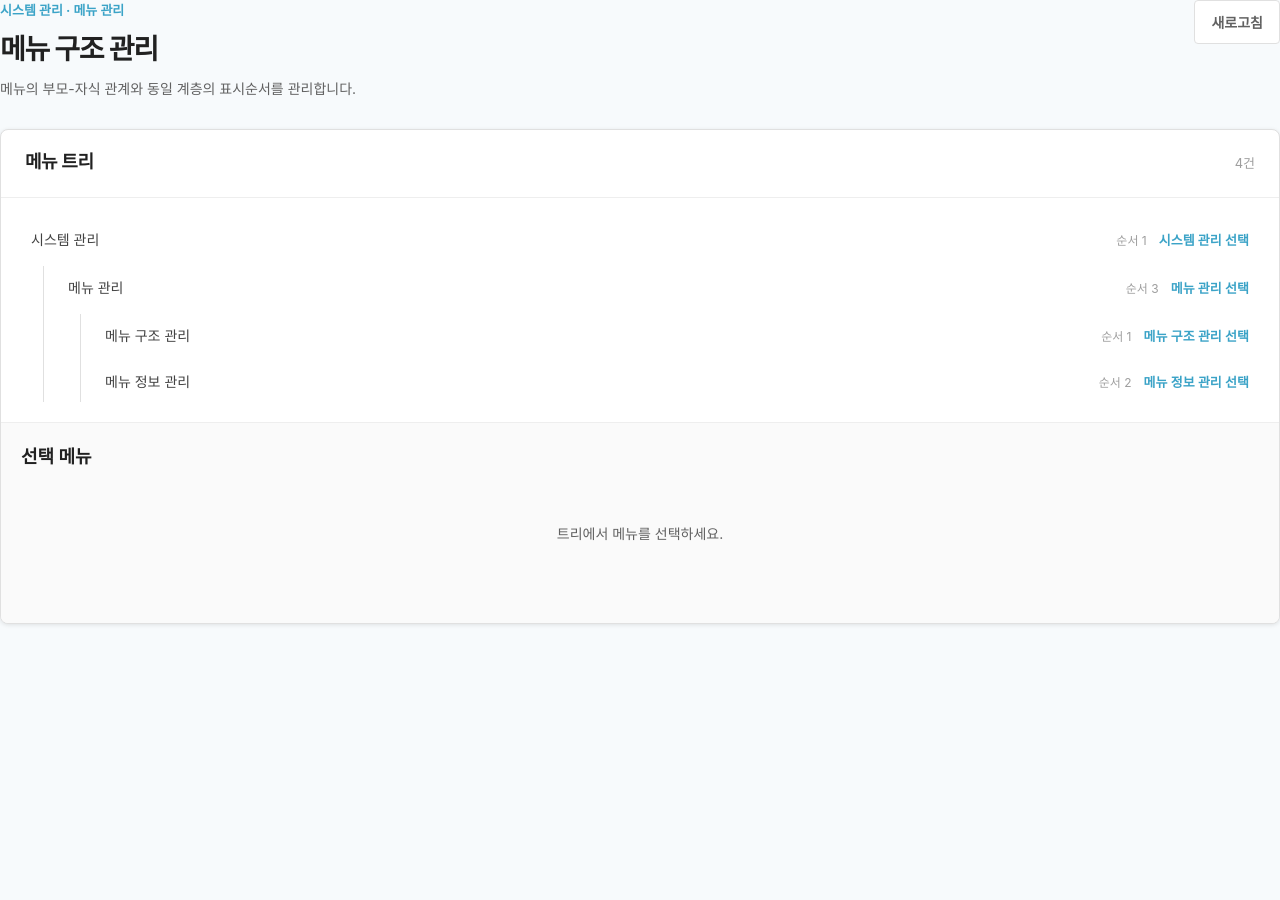
Test: MenuStructureManagementPage › loads the menu tree, changes a selected parent, and refreshes the rendered structure
Click the button "메뉴 정보 관리 선택" at (1196, 381), box [1144, 372, 1249, 390]
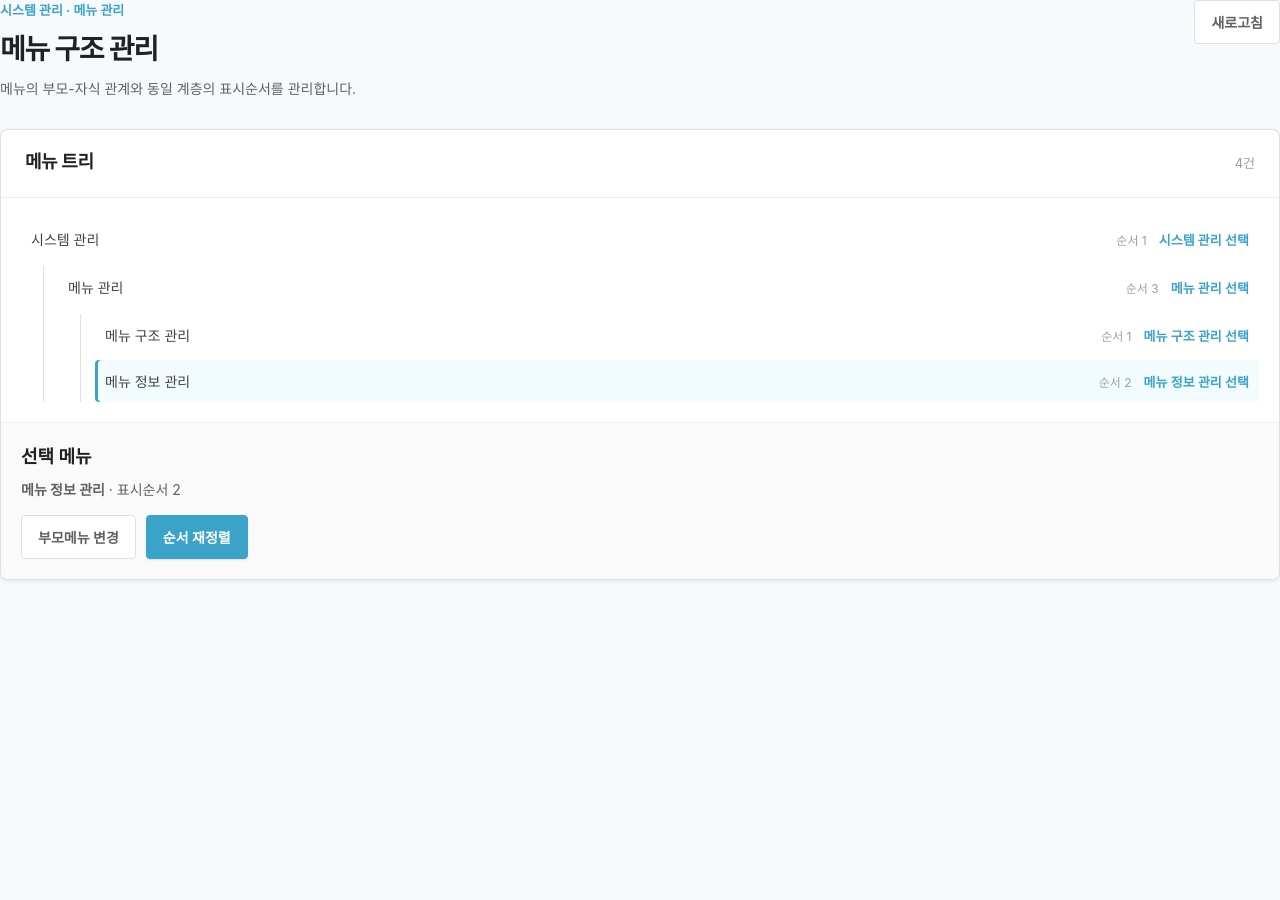
Click the button "부모메뉴 변경" at (78, 537), box [21, 515, 136, 559]
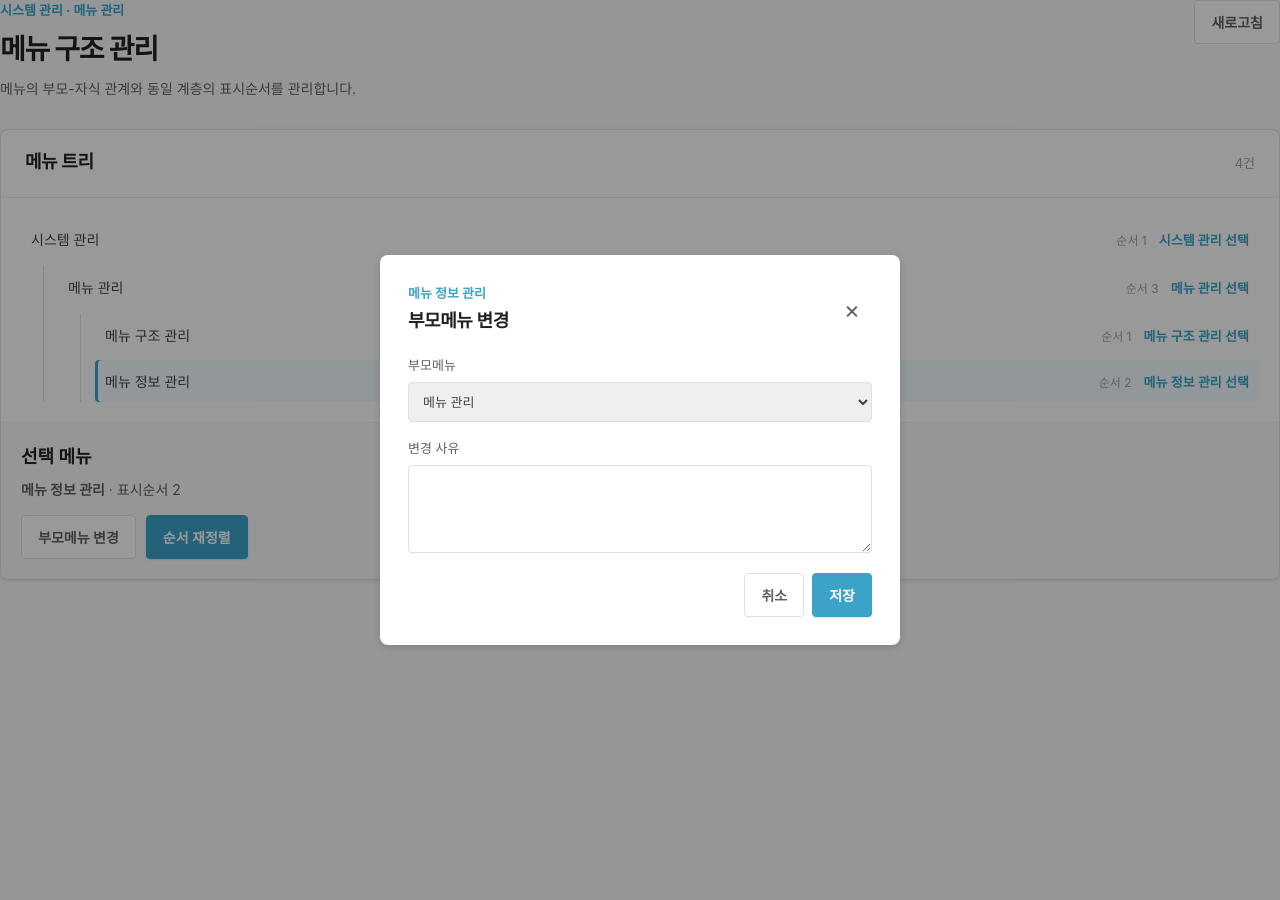
Select "시스템 관리" in the dropdown labelled "부모메뉴" at (640, 402), box [408, 382, 872, 422]
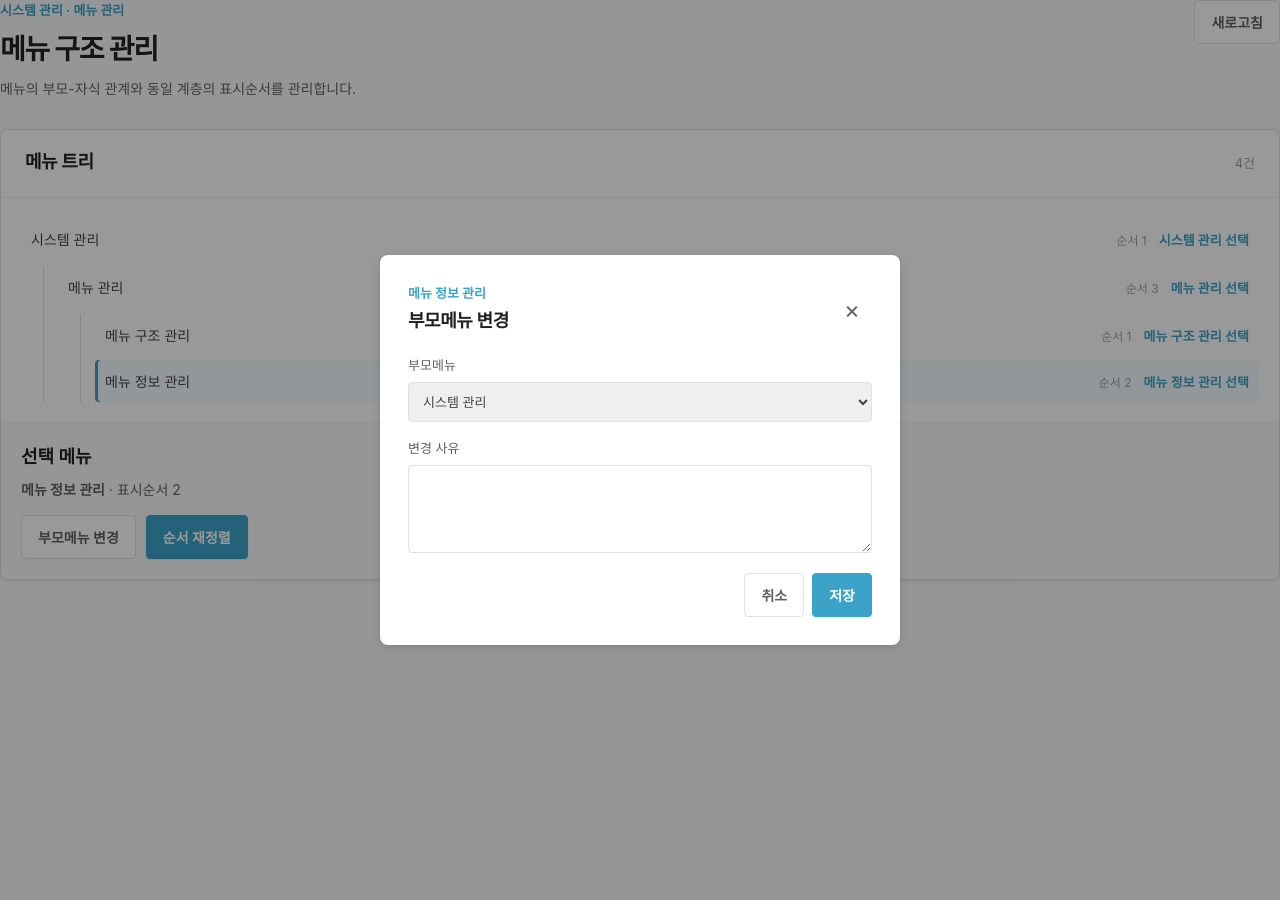
Type "메뉴 분류 조정" into the text box labelled "변경 사유" at (640, 509), box [408, 465, 872, 553]
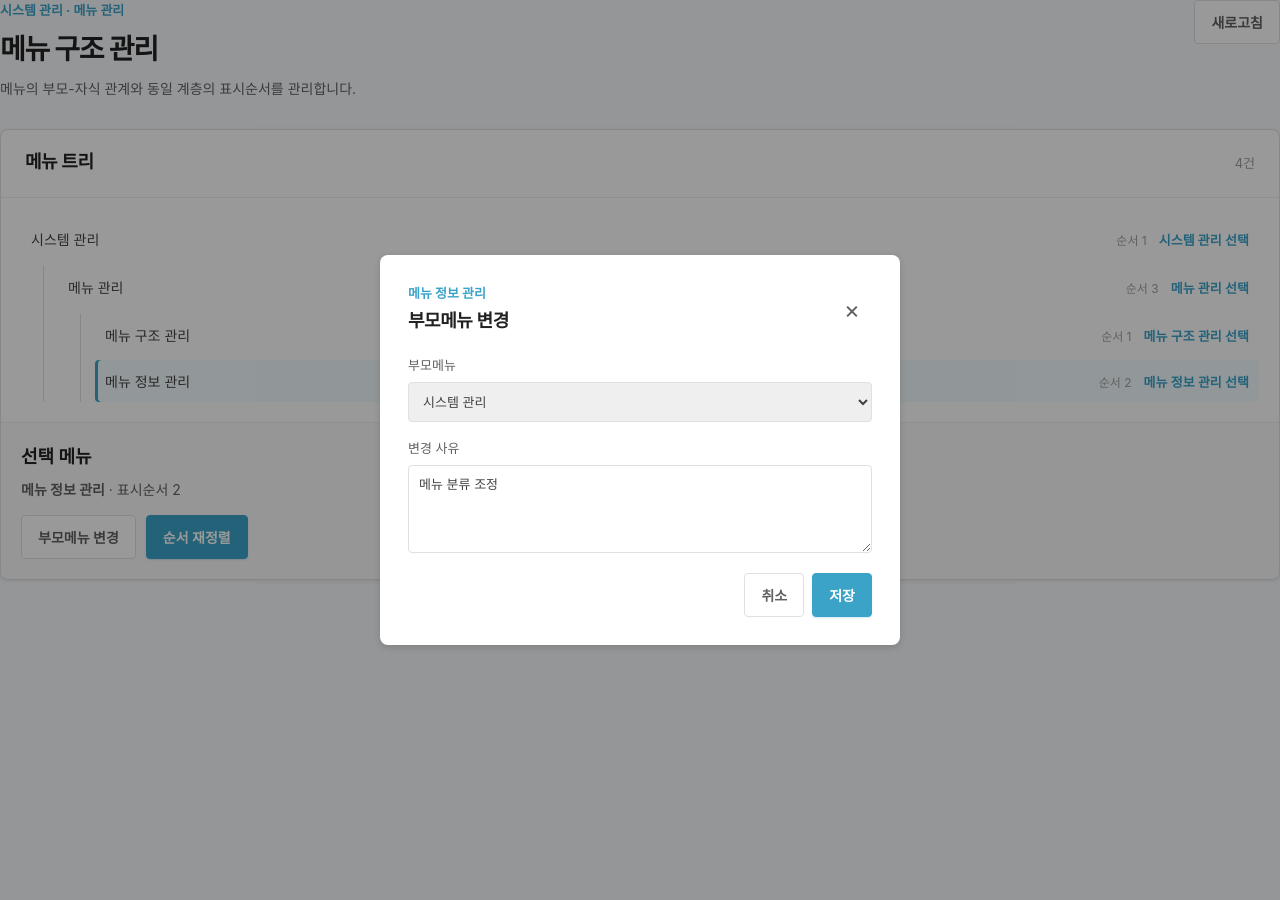
Click the button "저장" at (842, 595), box [812, 573, 872, 617]
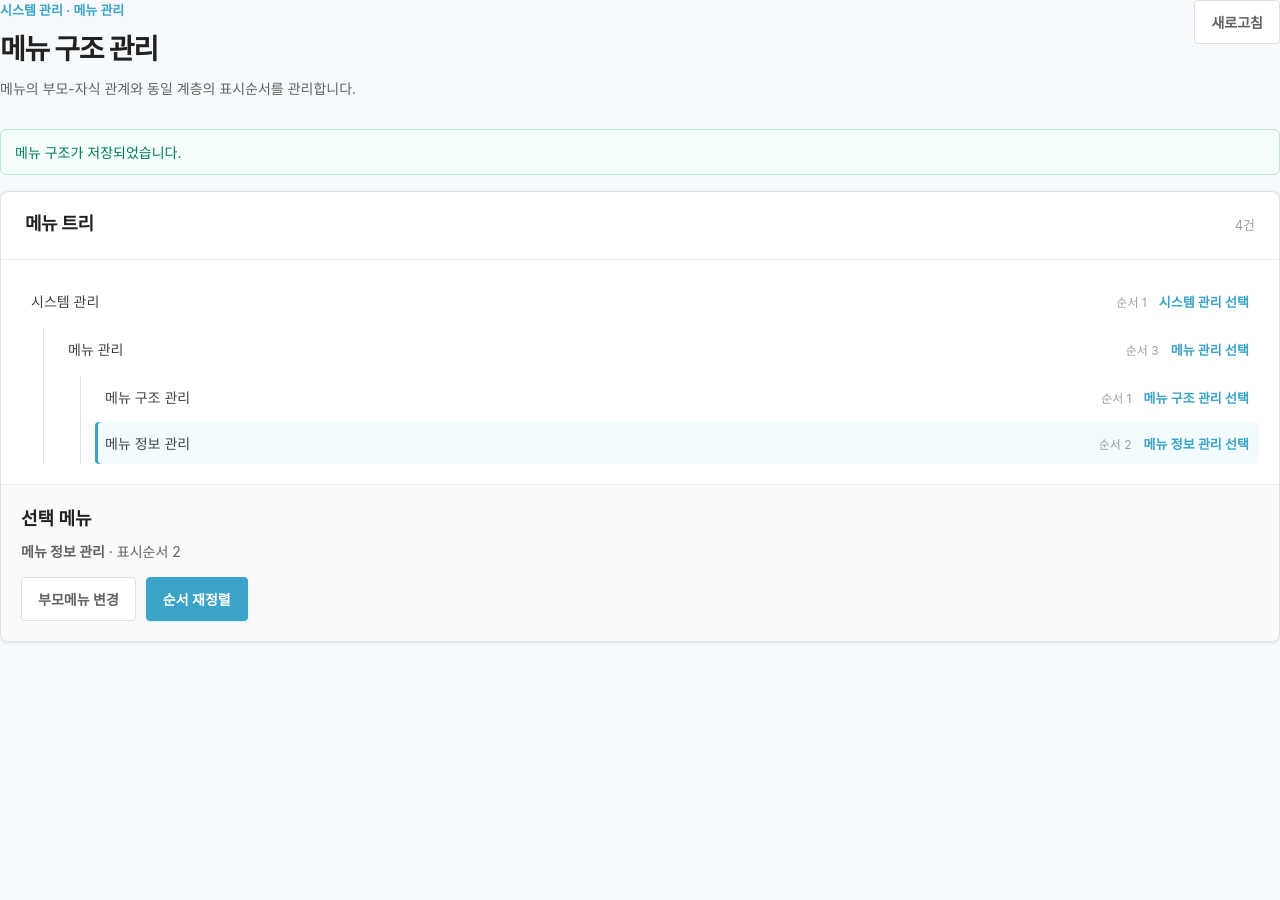
expect the text "메뉴 구조가 저장되었습니다." is shown: met, box [0, 129, 1279, 175]
